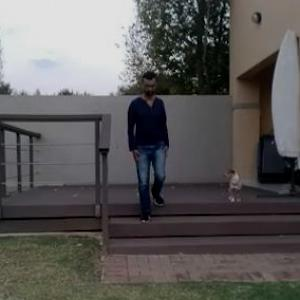follow: (127, 70, 166, 224)
